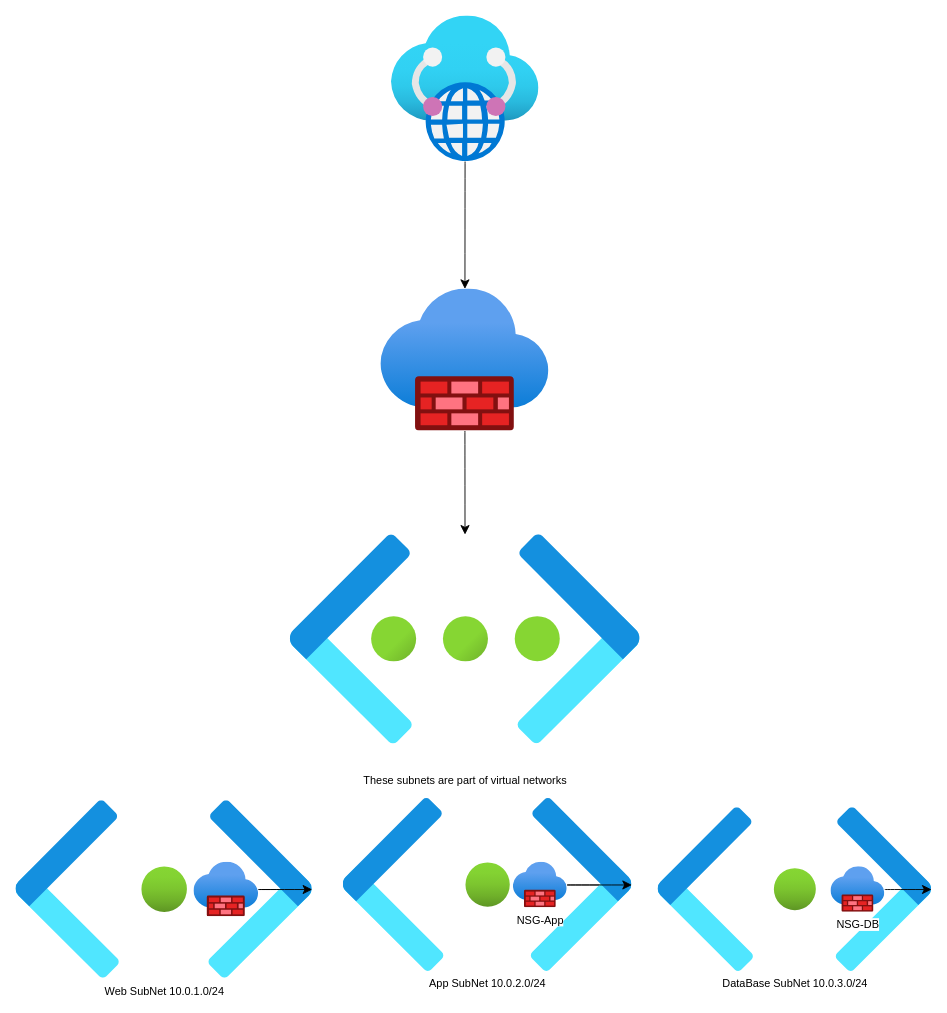
This 947x1013 diagram has some shape labels left out. The centre of each missing label's shape, as x and y in pixels:
"Azure VNet 10.0.0.0/16" belongs at [464,638].
"Internet" belongs at [465,88].
"NSG-Web" belongs at [225,889].
